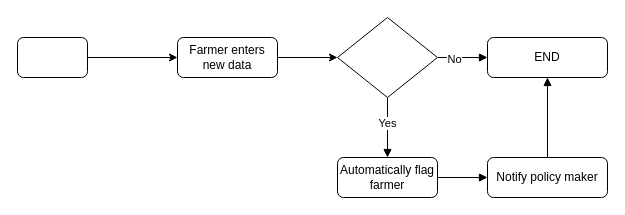
This 625x215 diagram has some shape labels left out. The shapes that lost their labels are listed below. From the top down, each one's box as (x1, y1, x2, y2) in pixels, then its label:
(16, 36, 88, 78): START
(336, 16, 438, 98): Any triggers satisfied?
